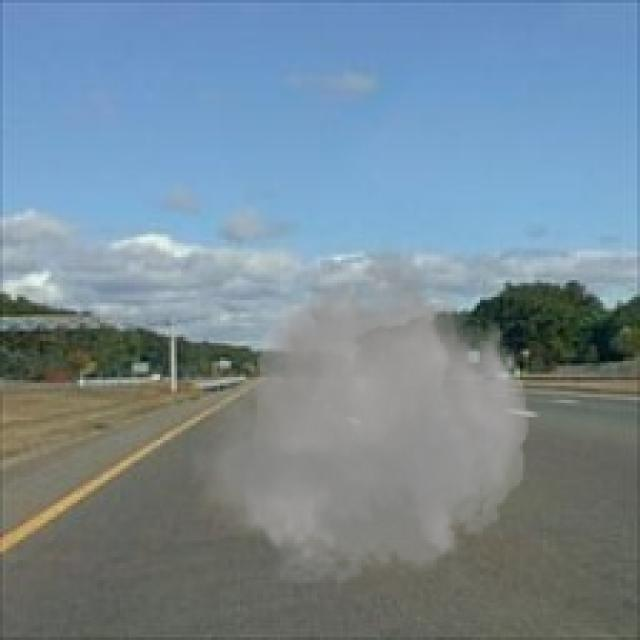smoke: (189, 231, 537, 600)
